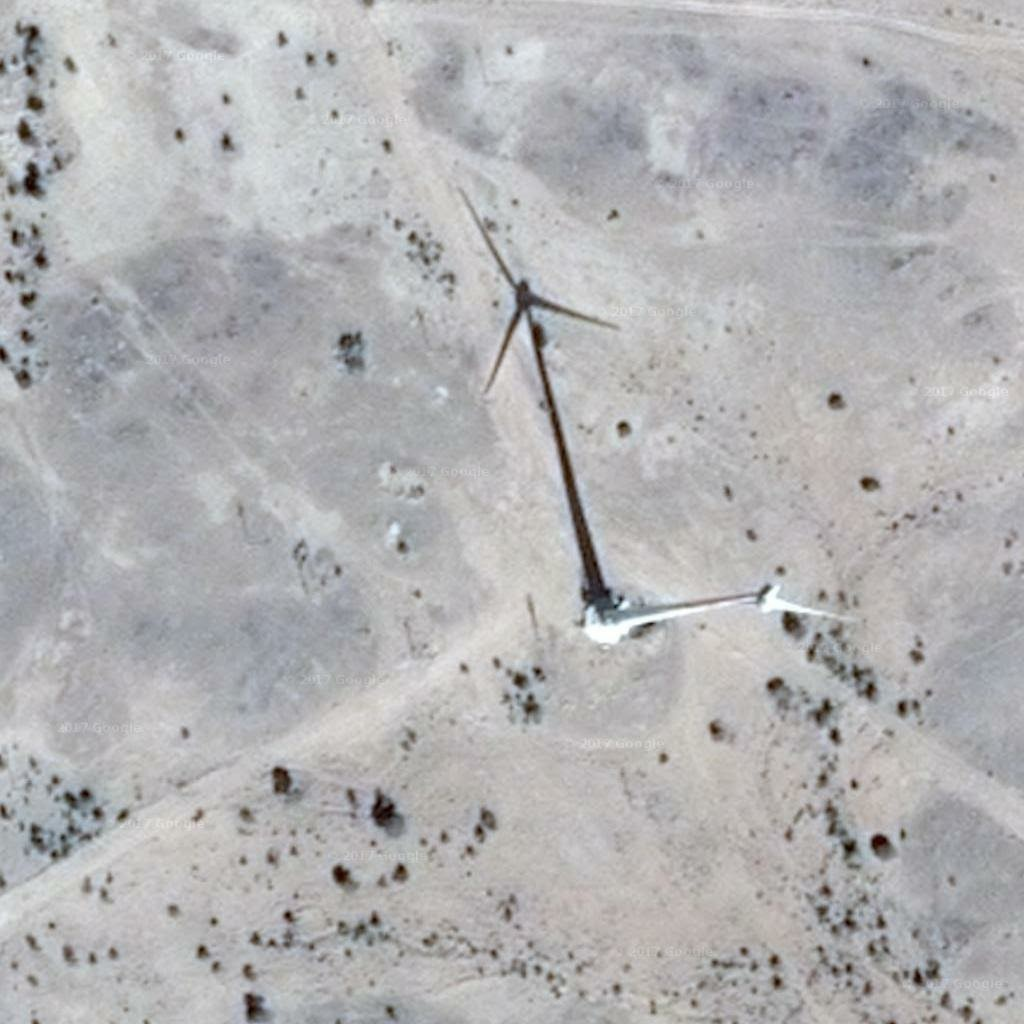Windmill: (449, 185, 632, 605)
